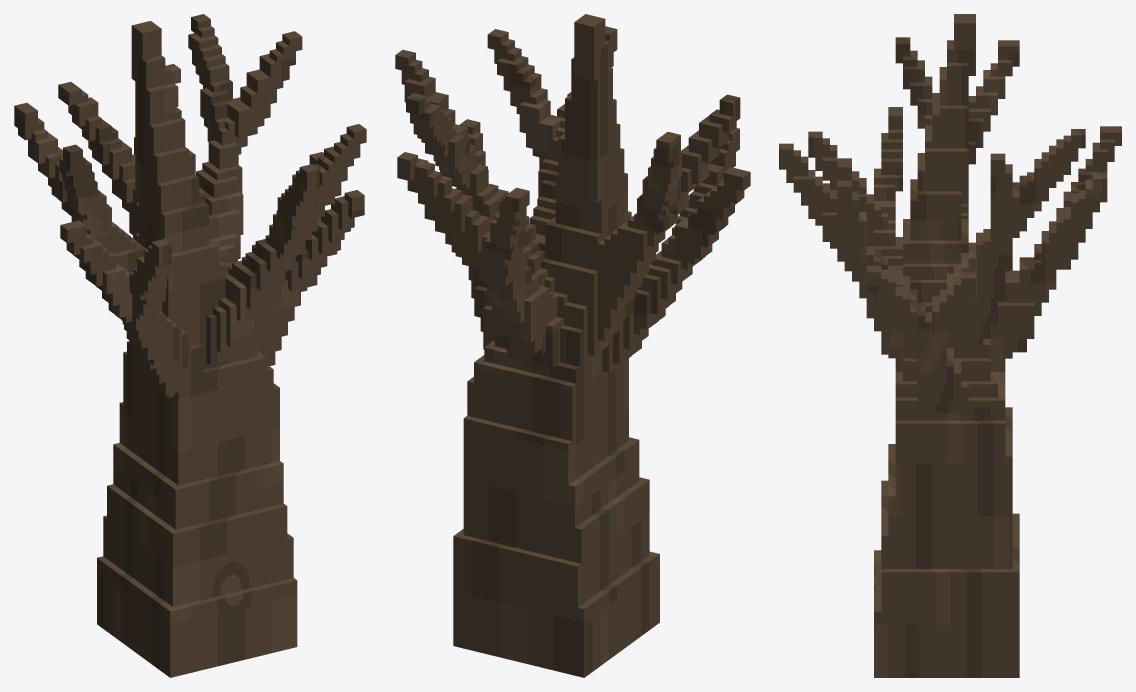
Rendered from oak_ancient_winter.glb.
3 renders of one model, left to right at view 1: azimuth 30°, elevation 25°; view 2: azimuth 150°, elevation 25°; view 3: azimuth 270°, elevation 25°, orthographic. The views are drawn at different scales.
Parts seen in each view (by area): view 1: VoxelVisual; view 2: VoxelVisual; view 3: VoxelVisual.
Boxes of the visible parts, <box> form: VoxelVisual: <box>14,14,366,677</box>; VoxelVisual: <box>395,14,750,677</box>; VoxelVisual: <box>779,14,1121,677</box>.
Size of what is drawn, in the model's own units: 11.75 by 23 by 11.75.
